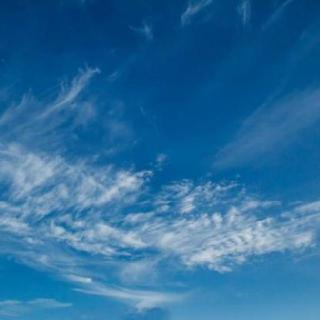Cirrus: (0, 15, 320, 317)
